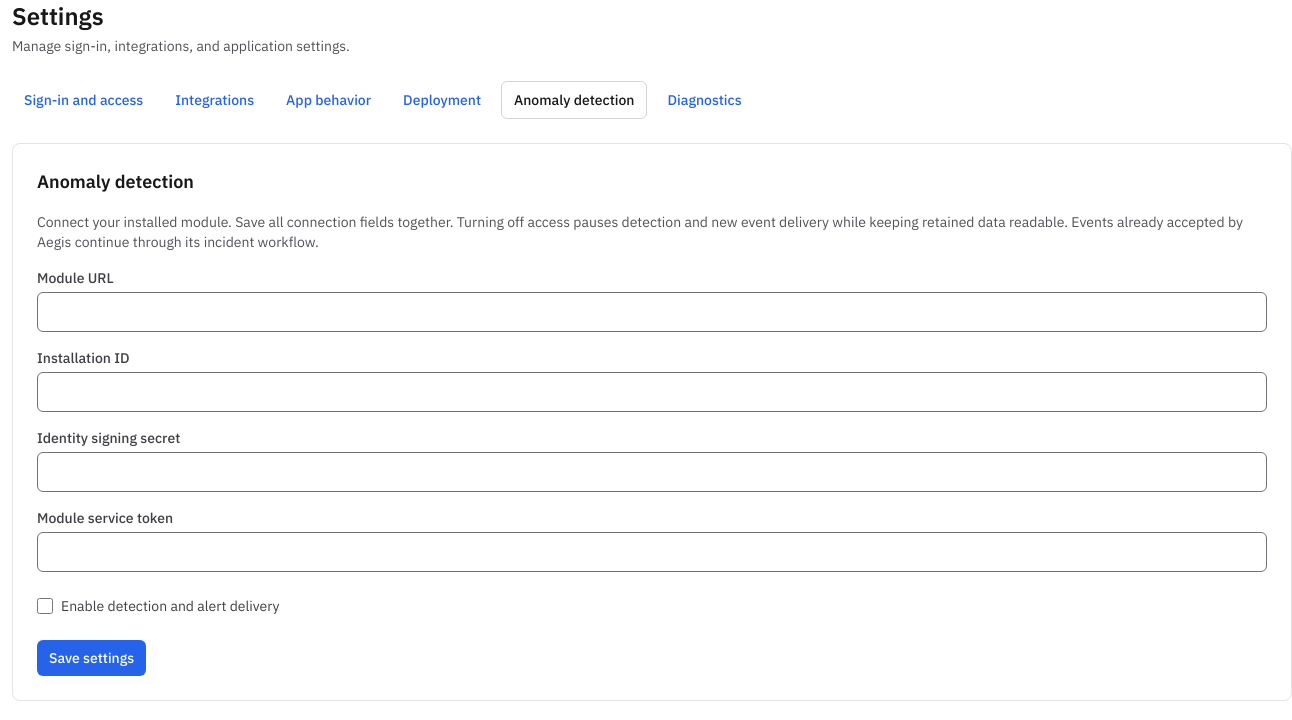
Settings and installation › saves anomaly connection fields together with blank secrets and a string access flag
Expected: the password field labelled "Module service token" is empty, [37,532,1267,572]
In the field labelled "Module URL": x=652, y=312 [37,292,1267,332], type "https://module.example"
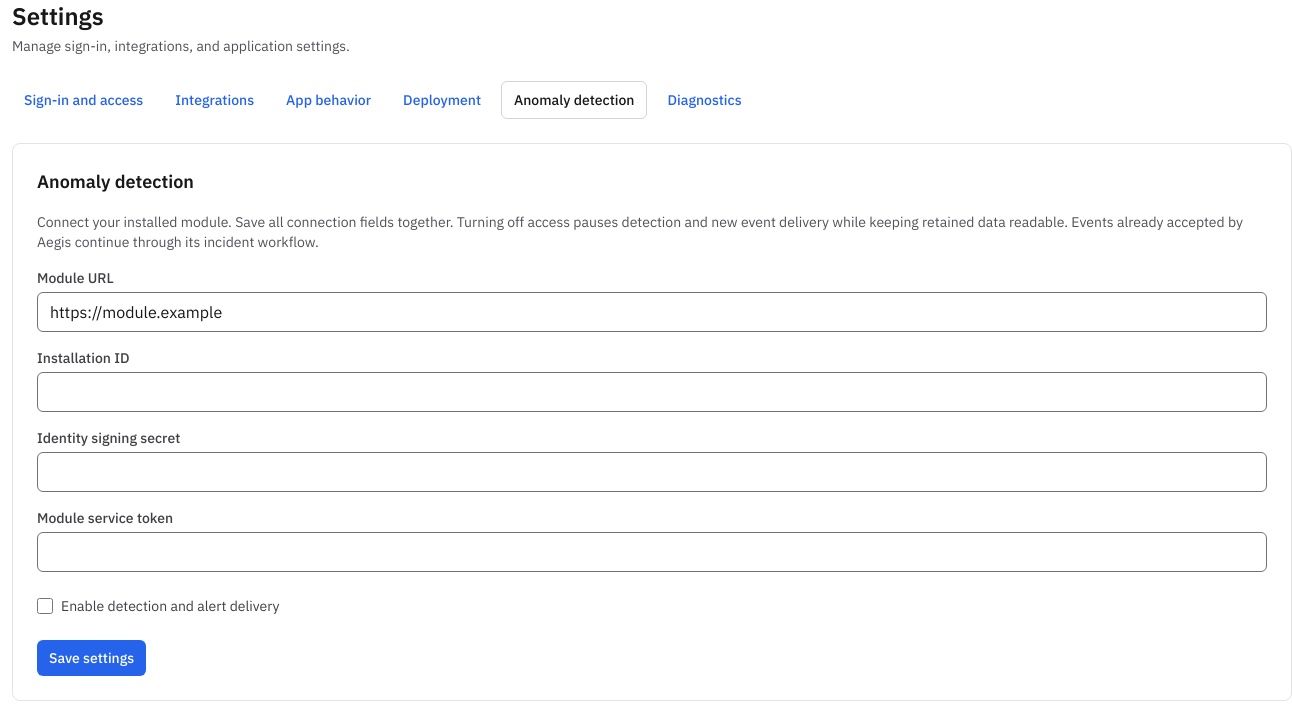
In the field labelled "Installation ID": x=652, y=392 [37,372,1267,412], type "customer-installation"
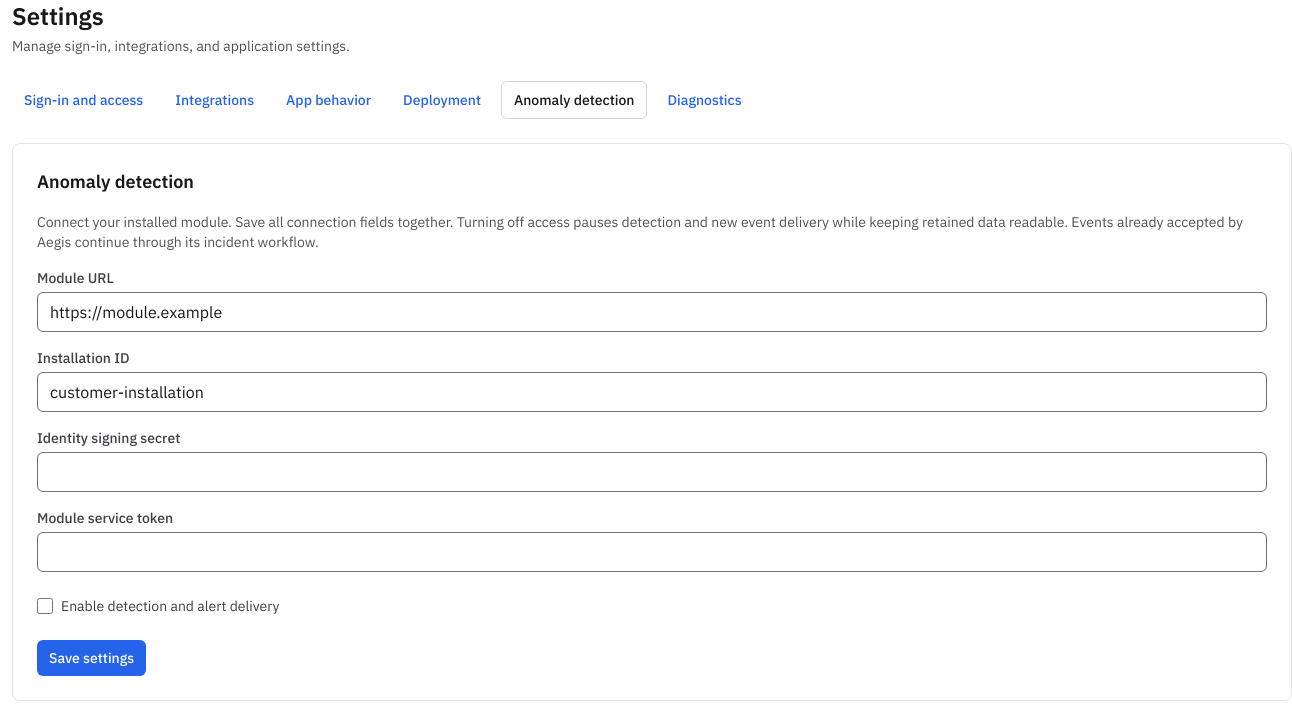
Click the checkbox labelled "Enable detection and alert delivery": x=45, y=606 [37,598,53,614]
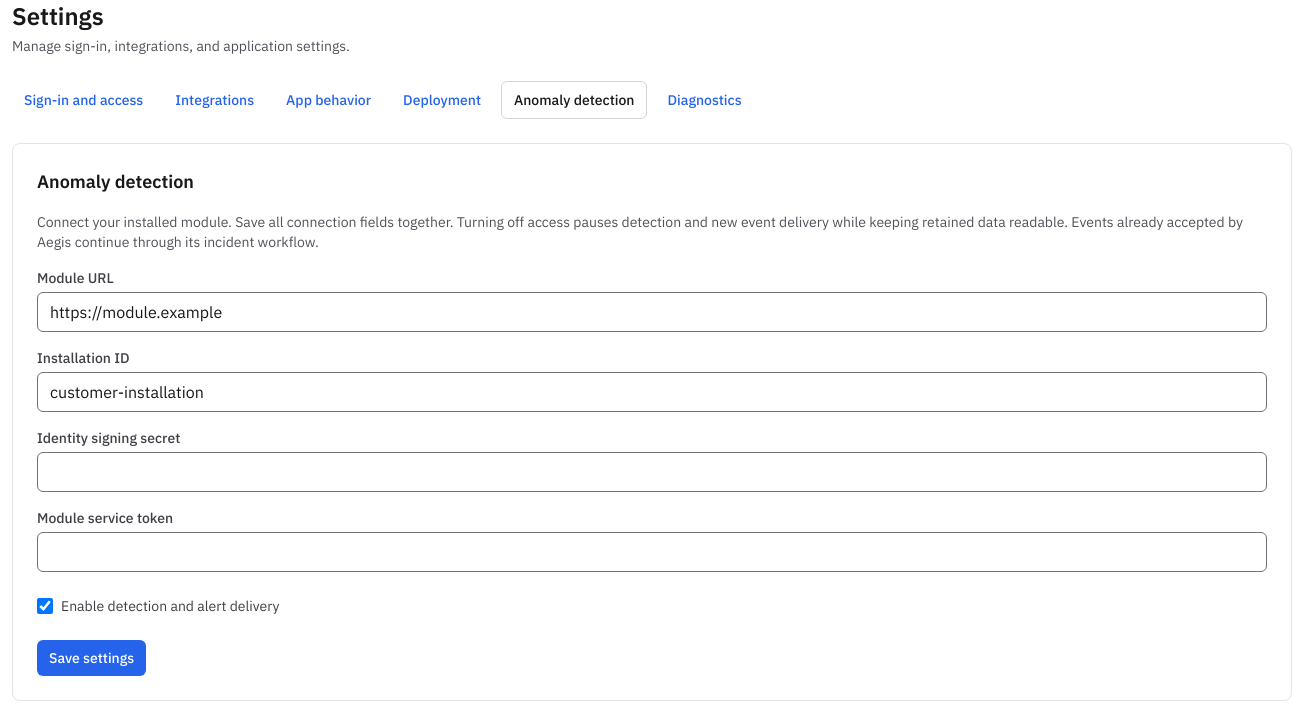
Click the button "Save settings": x=92, y=658 [37,640,146,676]
(page scrolled)
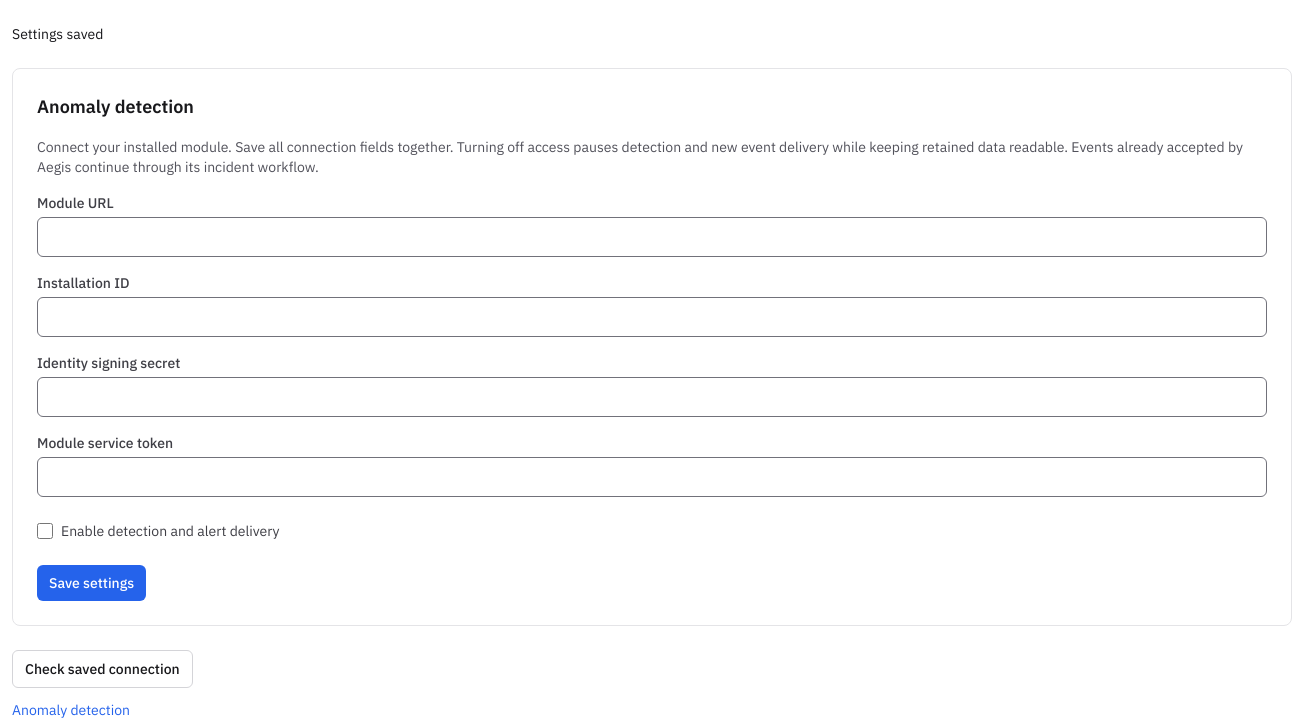
Result: the text "Settings saved" is shown at [12,25,103,43]
